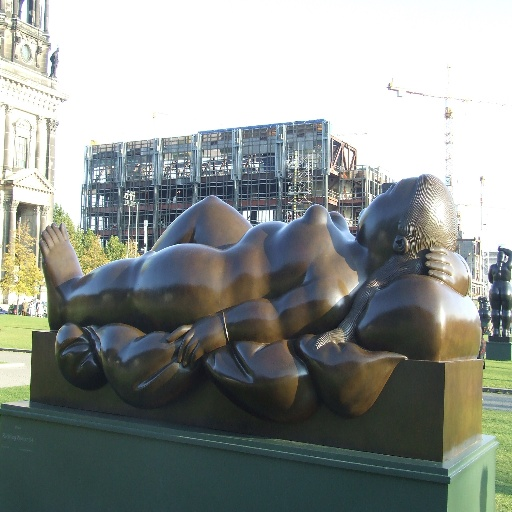hand: (163, 308, 227, 369), (423, 245, 468, 298)
